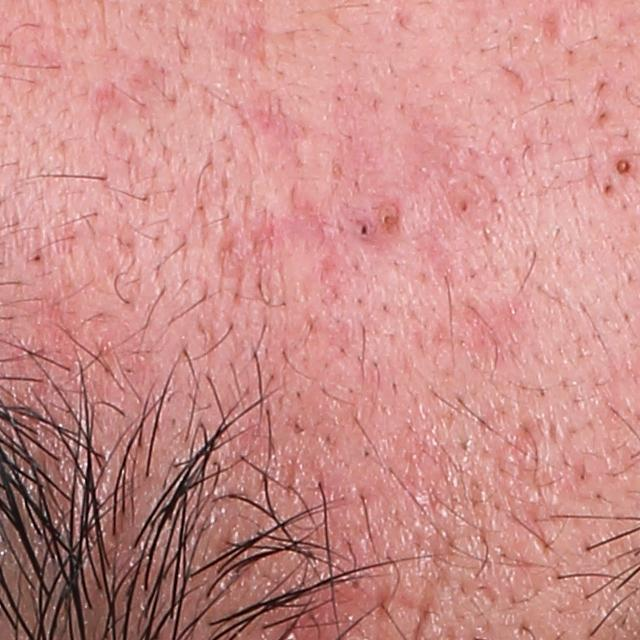comedo: (611, 154, 637, 178), (380, 212, 399, 228), (459, 195, 473, 215), (356, 220, 371, 238)
